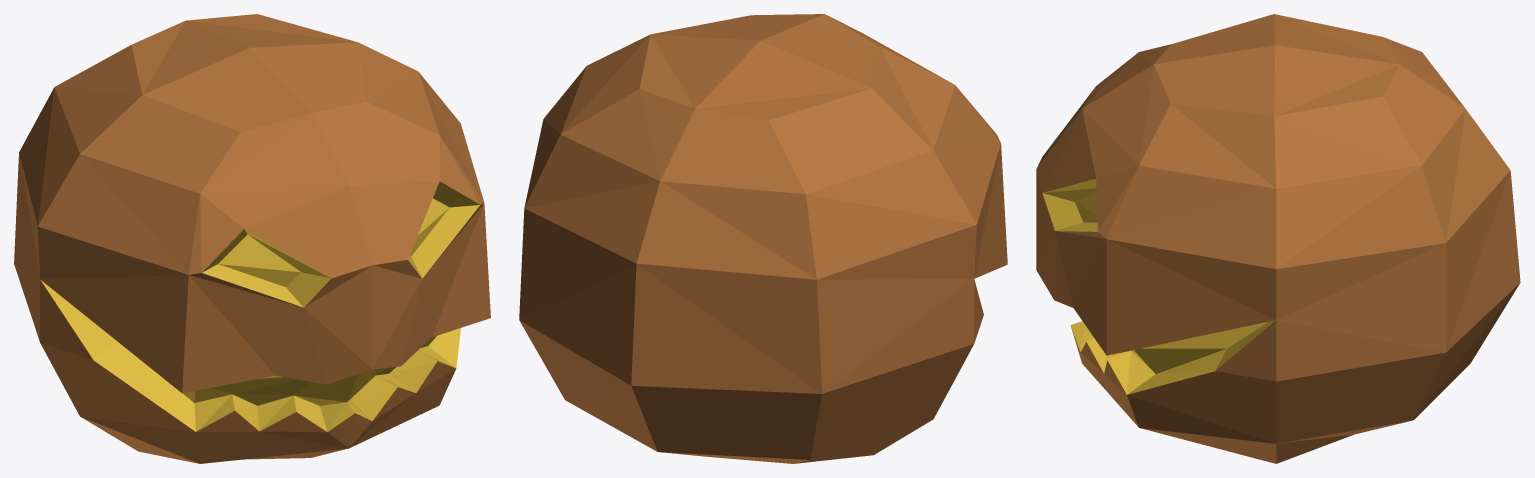
The model's file is pumpkin_02.fbx.
The picture shows the model from 3 angles, left to right: view 1: azimuth 30°, elevation 25°; view 2: azimuth 150°, elevation 25°; view 3: azimuth 270°, elevation 25°; orthographic projection. The views are drawn at different scales.
Parts seen in each view (by area): view 1: pumpkin_02; view 2: pumpkin_02; view 3: pumpkin_02.
Boxes of the visible parts, bbox=[...] form: pumpkin_02: bbox=[14, 14, 490, 463]; pumpkin_02: bbox=[519, 14, 1007, 463]; pumpkin_02: bbox=[1036, 14, 1520, 463].
Bounding box in the file's own units: 2.68 × 2.37 × 2.73.
